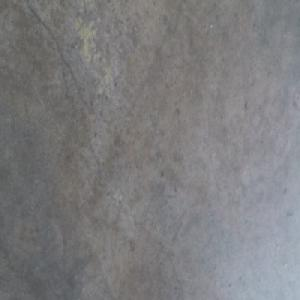Wrench: (166, 294, 173, 299)
